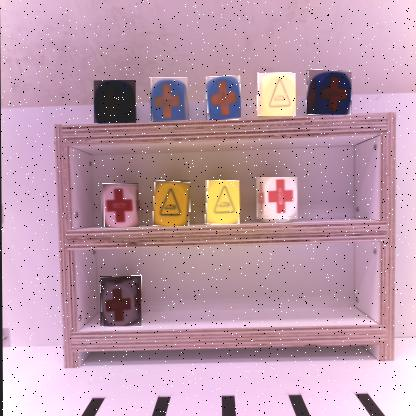CubeBlue: (307, 71, 354, 116), (94, 81, 138, 125), (151, 78, 190, 123), (206, 77, 243, 121)
CubeRed: (101, 277, 143, 328), (257, 179, 299, 223), (103, 184, 140, 229)
CubeYellow: (258, 74, 298, 118), (154, 181, 191, 228), (206, 181, 241, 227)
